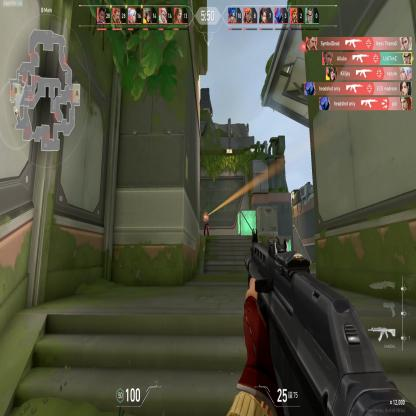enemy: (202, 210, 210, 235)
